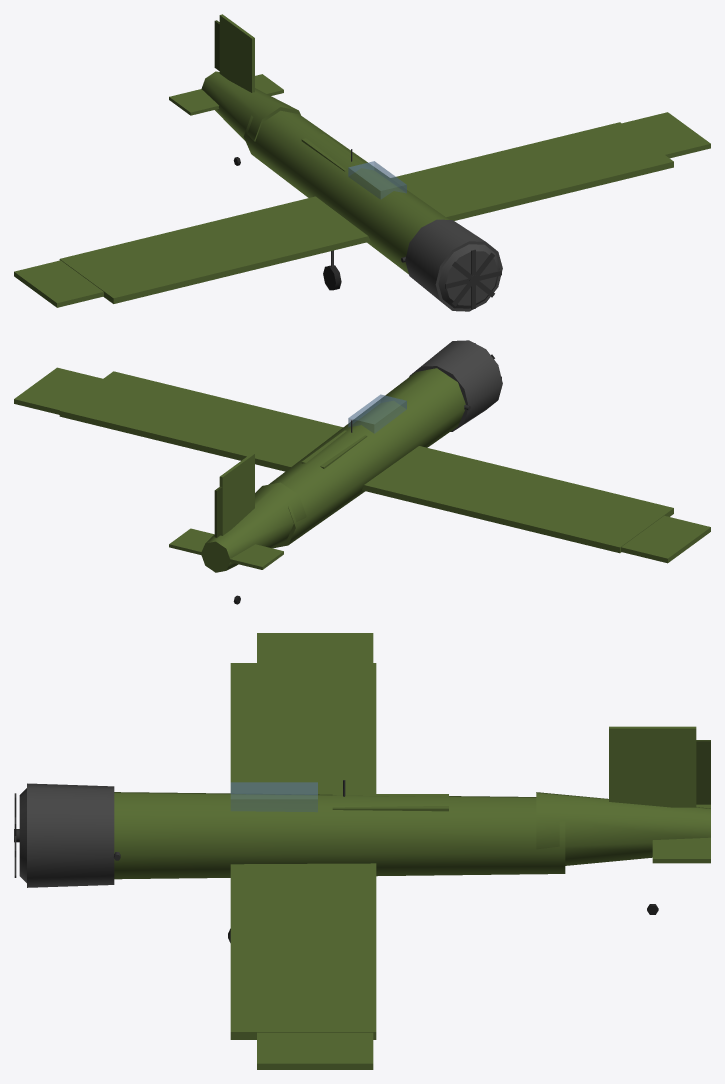
File: a1-skyraider.glb
3 renders of one model, top to bottom at view 1: azimuth 30°, elevation 25°; view 2: azimuth 150°, elevation 25°; view 3: azimuth 270°, elevation 25°, orthographic. The views are drawn at different scales.
Visible parts, largest first — view 1: Mesh_WingLeft, Mesh_WingRight, Mesh_Fuselage, Mesh_EngineCowling, Mesh_TailFuselage, Mesh_WingTipLeft, Mesh_WingTipRight, Mesh_VerticalStab, Mesh_CowlFront, Mesh_Canopy, Mesh_HorizontalStab; view 2: Mesh_WingLeft, Mesh_WingRight, Mesh_Fuselage, Mesh_TailFuselage, Mesh_EngineCowling, Mesh_WingTipLeft, Mesh_WingTipRight, Mesh_VerticalStab, Mesh_HorizontalStab, Mesh_Canopy, Mesh_RudderTab; view 3: Mesh_Fuselage, Mesh_WingRight, Mesh_WingLeft, Mesh_EngineCowling, Mesh_TailFuselage, Mesh_VerticalStab, Mesh_WingTipRight, Mesh_WingTipLeft, Mesh_Canopy, Mesh_HorizontalStab, Mesh_RudderTab, Mesh_DorsalSpine (+1 smaller).
Boxes of the visible parts, left/top/right/bottom form: Mesh_WingLeft: left=59, top=196, right=370, bottom=303; Mesh_WingRight: left=391, top=122, right=673, bottom=220; Mesh_Fuselage: left=243, top=110, right=449, bottom=274; Mesh_EngineCowling: left=405, top=219, right=502, bottom=311; Mesh_TailFuselage: left=201, top=71, right=300, bottom=141; Mesh_WingTipLeft: left=14, top=260, right=103, bottom=307; Mesh_WingTipRight: left=622, top=112, right=710, bottom=158; Mesh_VerticalStab: left=219, top=14, right=254, bottom=92; Mesh_CowlFront: left=438, top=244, right=499, bottom=308; Mesh_Canopy: left=348, top=161, right=406, bottom=199; Mesh_HorizontalStab: left=169, top=74, right=283, bottom=115; Mesh_WingLeft: left=362, top=446, right=673, bottom=553; Mesh_WingRight: left=59, top=371, right=342, bottom=471; Mesh_Fuselage: left=269, top=368, right=465, bottom=548; Mesh_TailFuselage: left=201, top=482, right=306, bottom=572; Mesh_EngineCowling: left=409, top=340, right=502, bottom=431; Mesh_WingTipLeft: left=621, top=515, right=710, bottom=563; Mesh_WingTipRight: left=14, top=367, right=102, bottom=414; Mesh_VerticalStab: left=219, top=453, right=254, bottom=535; Mesh_HorizontalStab: left=169, top=528, right=283, bottom=569; Mesh_Canopy: left=348, top=394, right=406, bottom=433; Mesh_RudderTab: left=214, top=486, right=222, bottom=537; Mesh_Fuselage: left=114, top=792, right=565, bottom=879; Mesh_WingRight: left=230, top=863, right=376, bottom=1039; Mesh_WingLeft: left=230, top=663, right=376, bottom=794; Mesh_EngineCowling: left=27, top=783, right=114, bottom=887; Mesh_TailFuselage: left=536, top=792, right=710, bottom=865; Mesh_VerticalStab: left=609, top=726, right=696, bottom=807; Mesh_WingTipRight: left=257, top=1032, right=373, bottom=1069; Mesh_WingTipLeft: left=257, top=633, right=373, bottom=662; Mesh_Canopy: left=230, top=782, right=317, bottom=811; Mesh_HorizontalStab: left=652, top=804, right=710, bottom=863; Mesh_RudderTab: left=696, top=740, right=710, bottom=804; Mesh_DorsalSpine: left=332, top=794, right=448, bottom=811.
Size of the model in its own units: 17.5 by 3.55 by 11.98.
